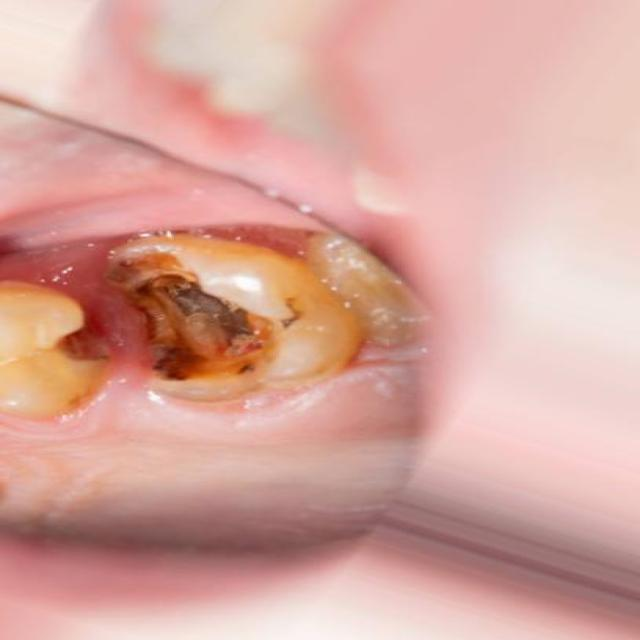caries: (116, 234, 308, 395), (6, 294, 118, 376)
